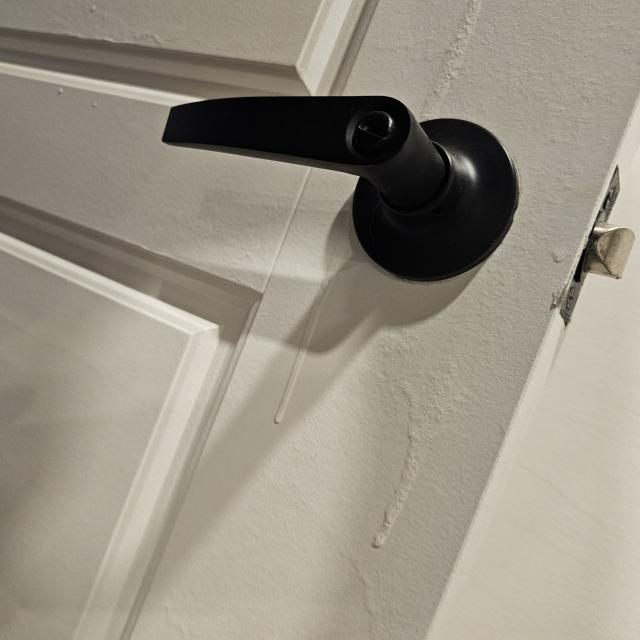door-handle: (162, 96, 519, 282)
